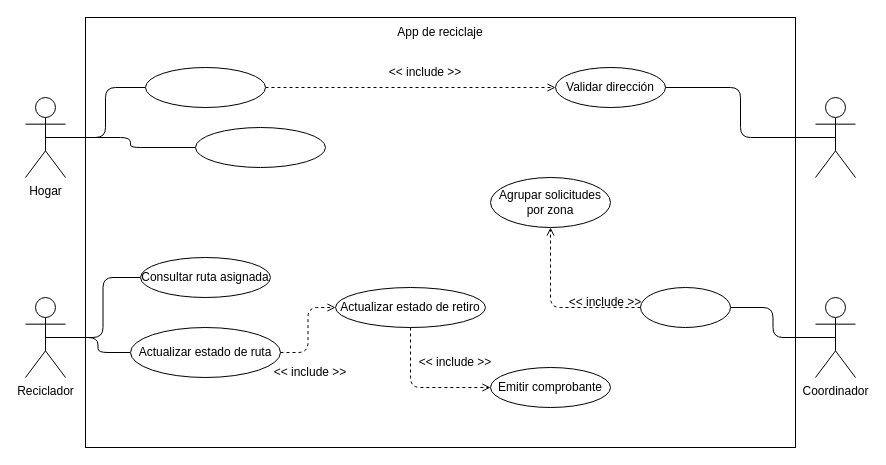
Image size: 886x465. Some labels were removed from this diagram. Each missing label, with the centre of its shape:
Asignar ruta: the point at 685,307
Consultar historial: the point at 260,147
GPS: the point at 835,137
Ingresar Solicitud: the point at 205,87
